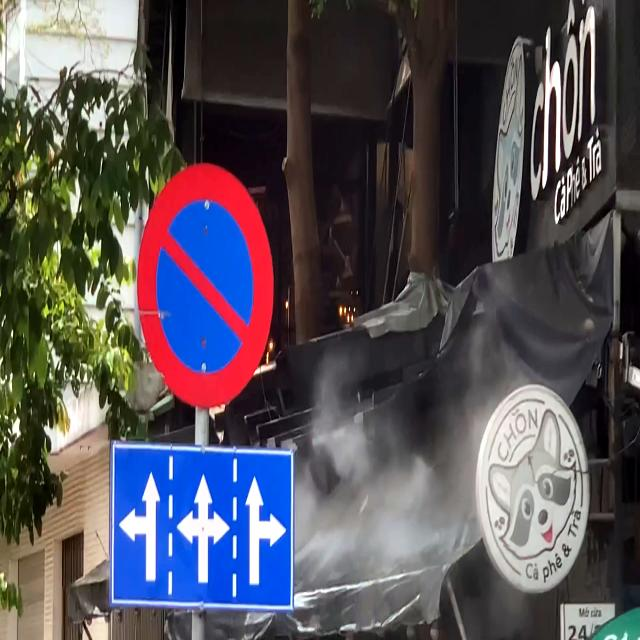P.131a: (136, 160, 275, 411)
